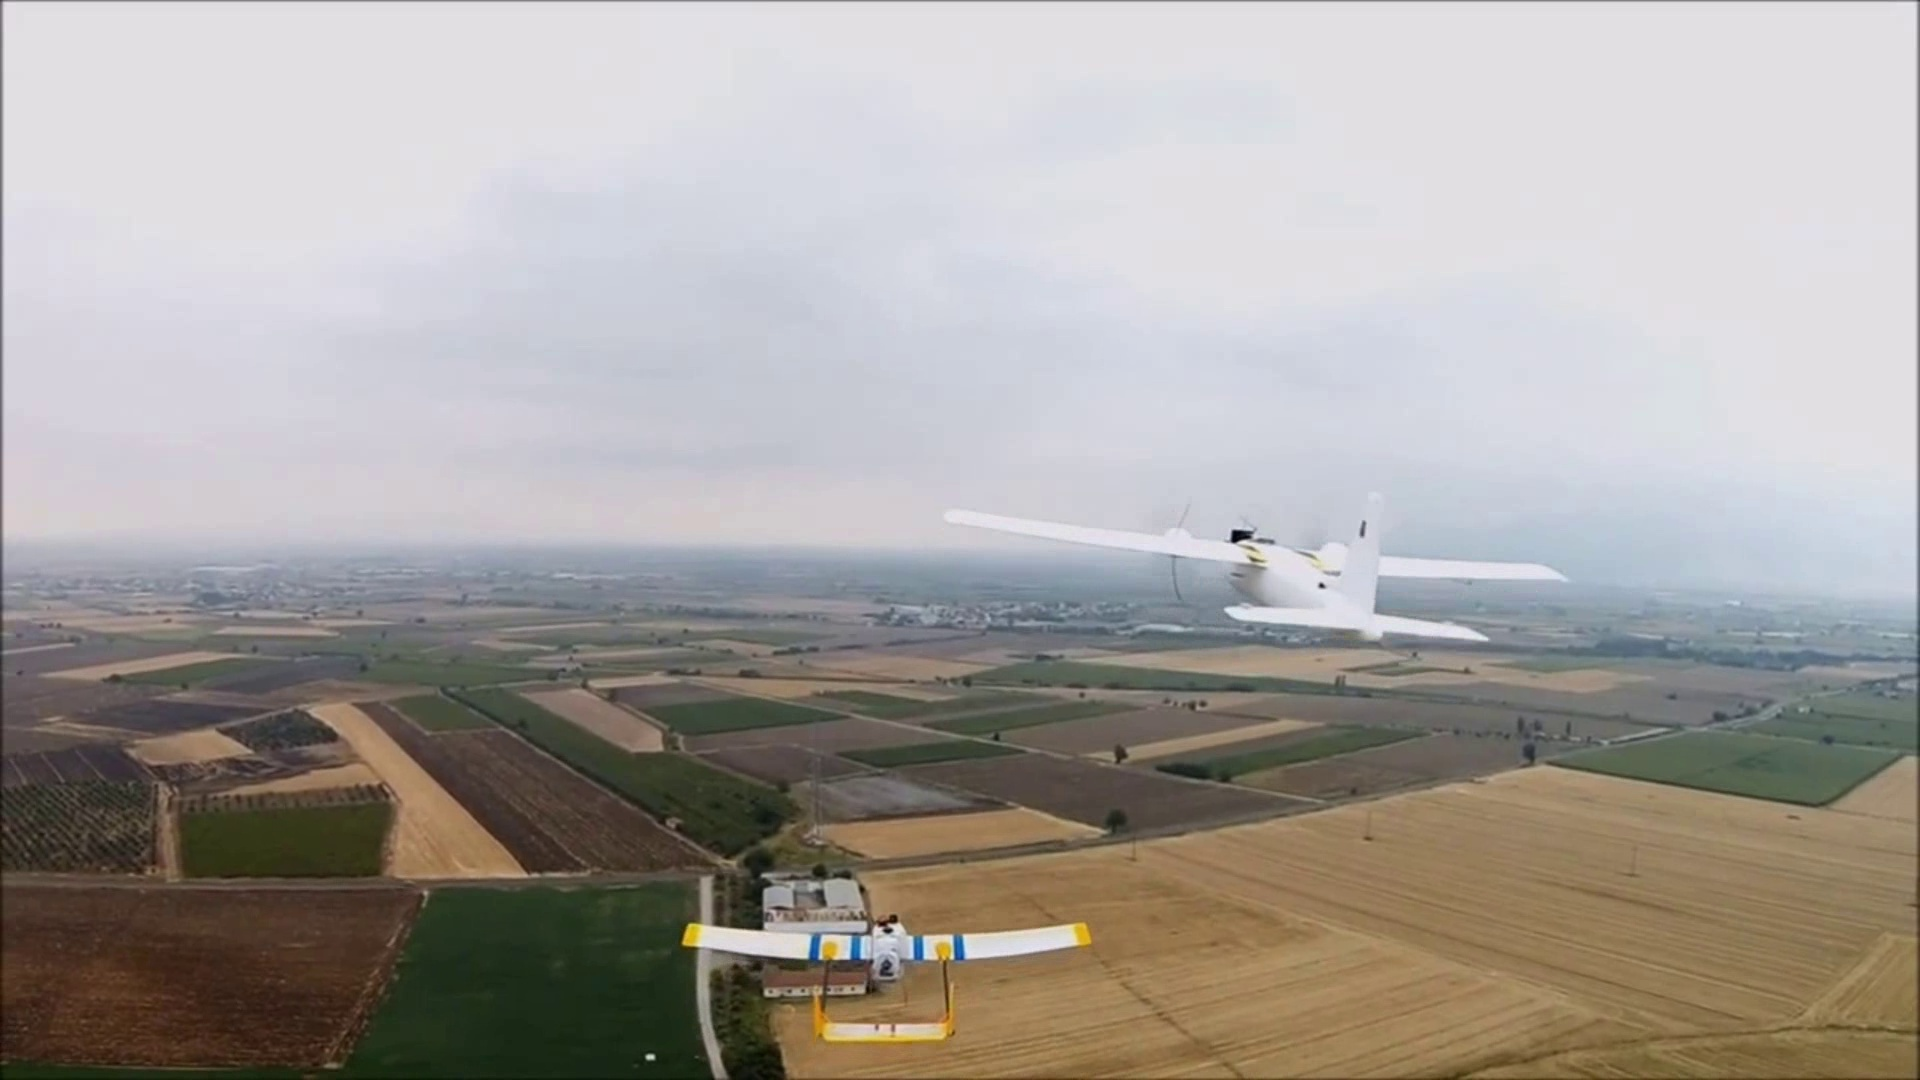airplane: (942, 495, 1563, 651)
